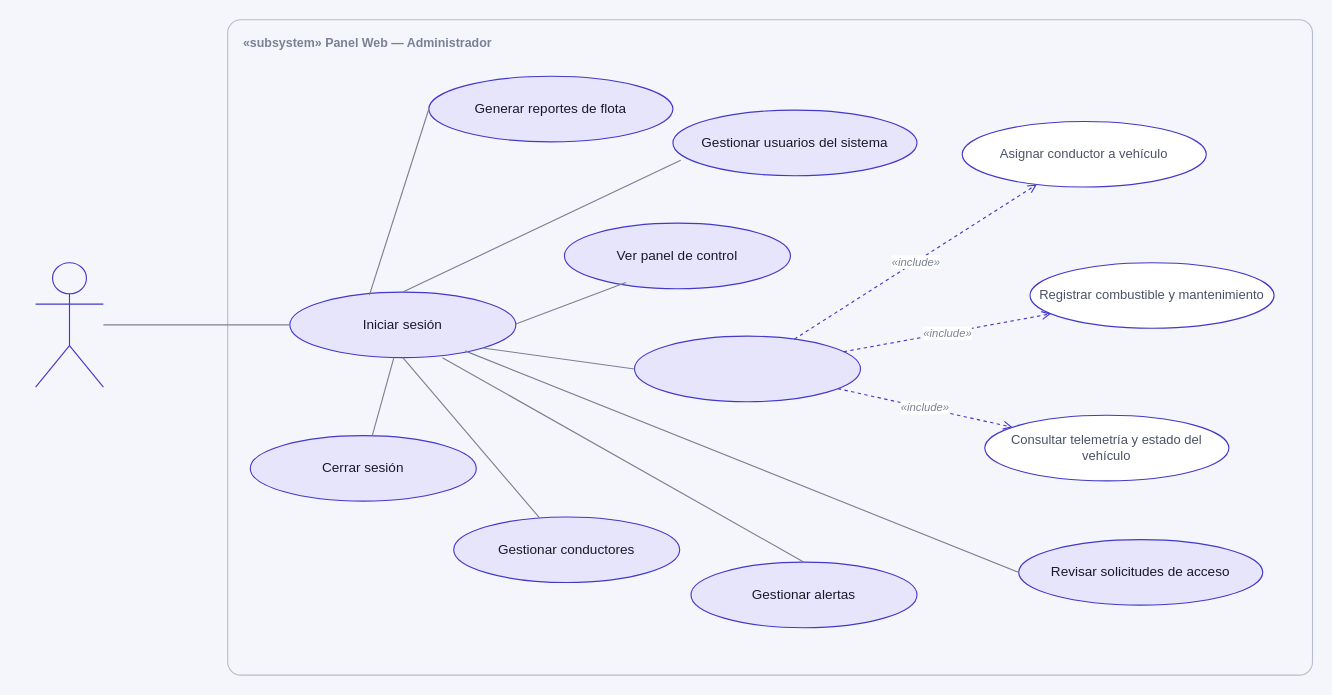
The diagram is 1332 pixels wide and 695 high, and some of its shapes have lost their labels. The shapes that lost their labels are listed below. From the top down, each one's centre as x and y in pixels, then its label:
At (68,324): "Administrador".
At (746,368): "Gestionar vehículos".
